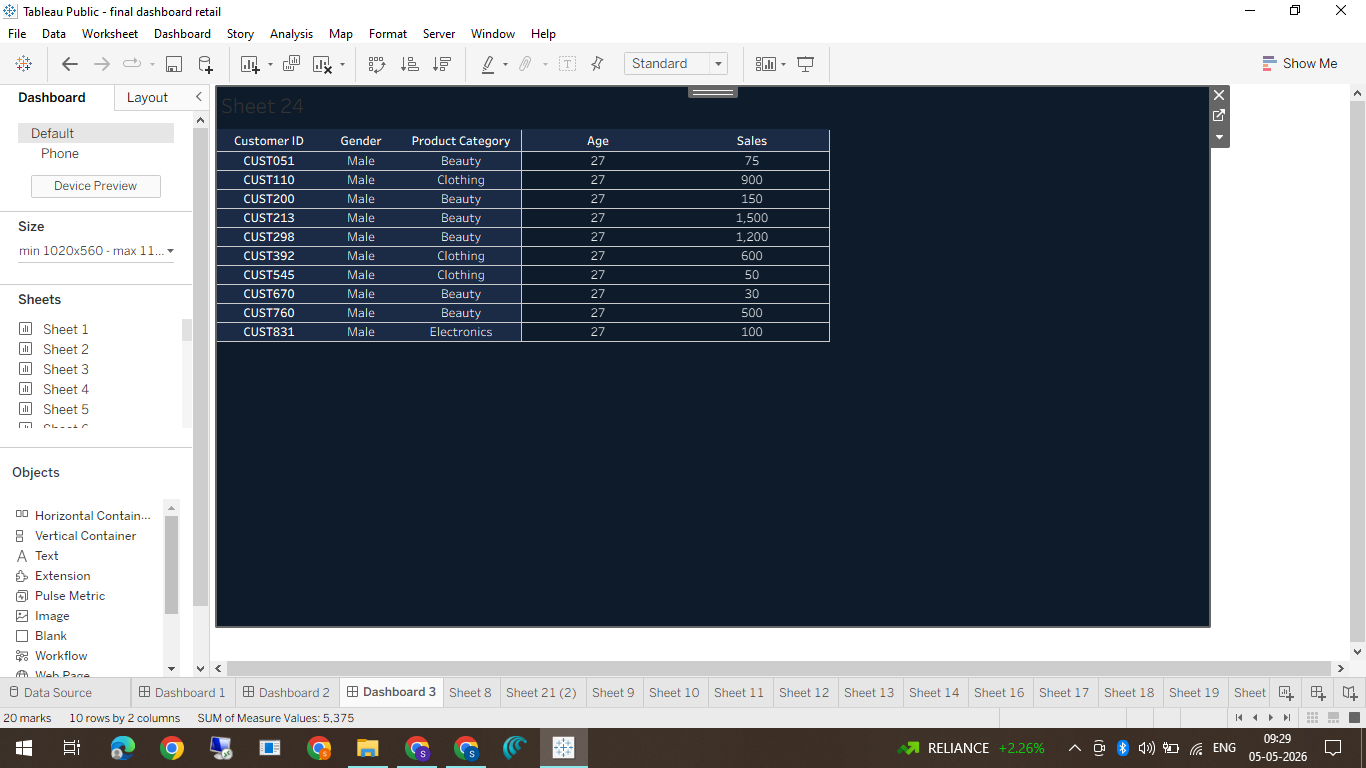

This screenshot's page, from the dashboard's own definition file:
{"tool":"tableau","page":{"name":"Dashboard 3","canvas":[1000,1000],"units":"permille","ordinal":2},"visuals":[{"type":"worksheet","title":"Sheet 24","mark":"Automatic","rows":["Customer ID","Gender","Product Category"],"box":[6.1,5.1,871.1,935.8]}]}

Visuals, with their boxes on the dashboard's canvas, which has no fixed pixel size, in thousandths of its width and height (x1, y1, x2, y2). These are canvas units, not pixel positions in the 1366x768 screenshot, which may show the page scaled, cropped or inside an application window:
"Sheet 24" worksheet: <box>6,5,877,941</box>
